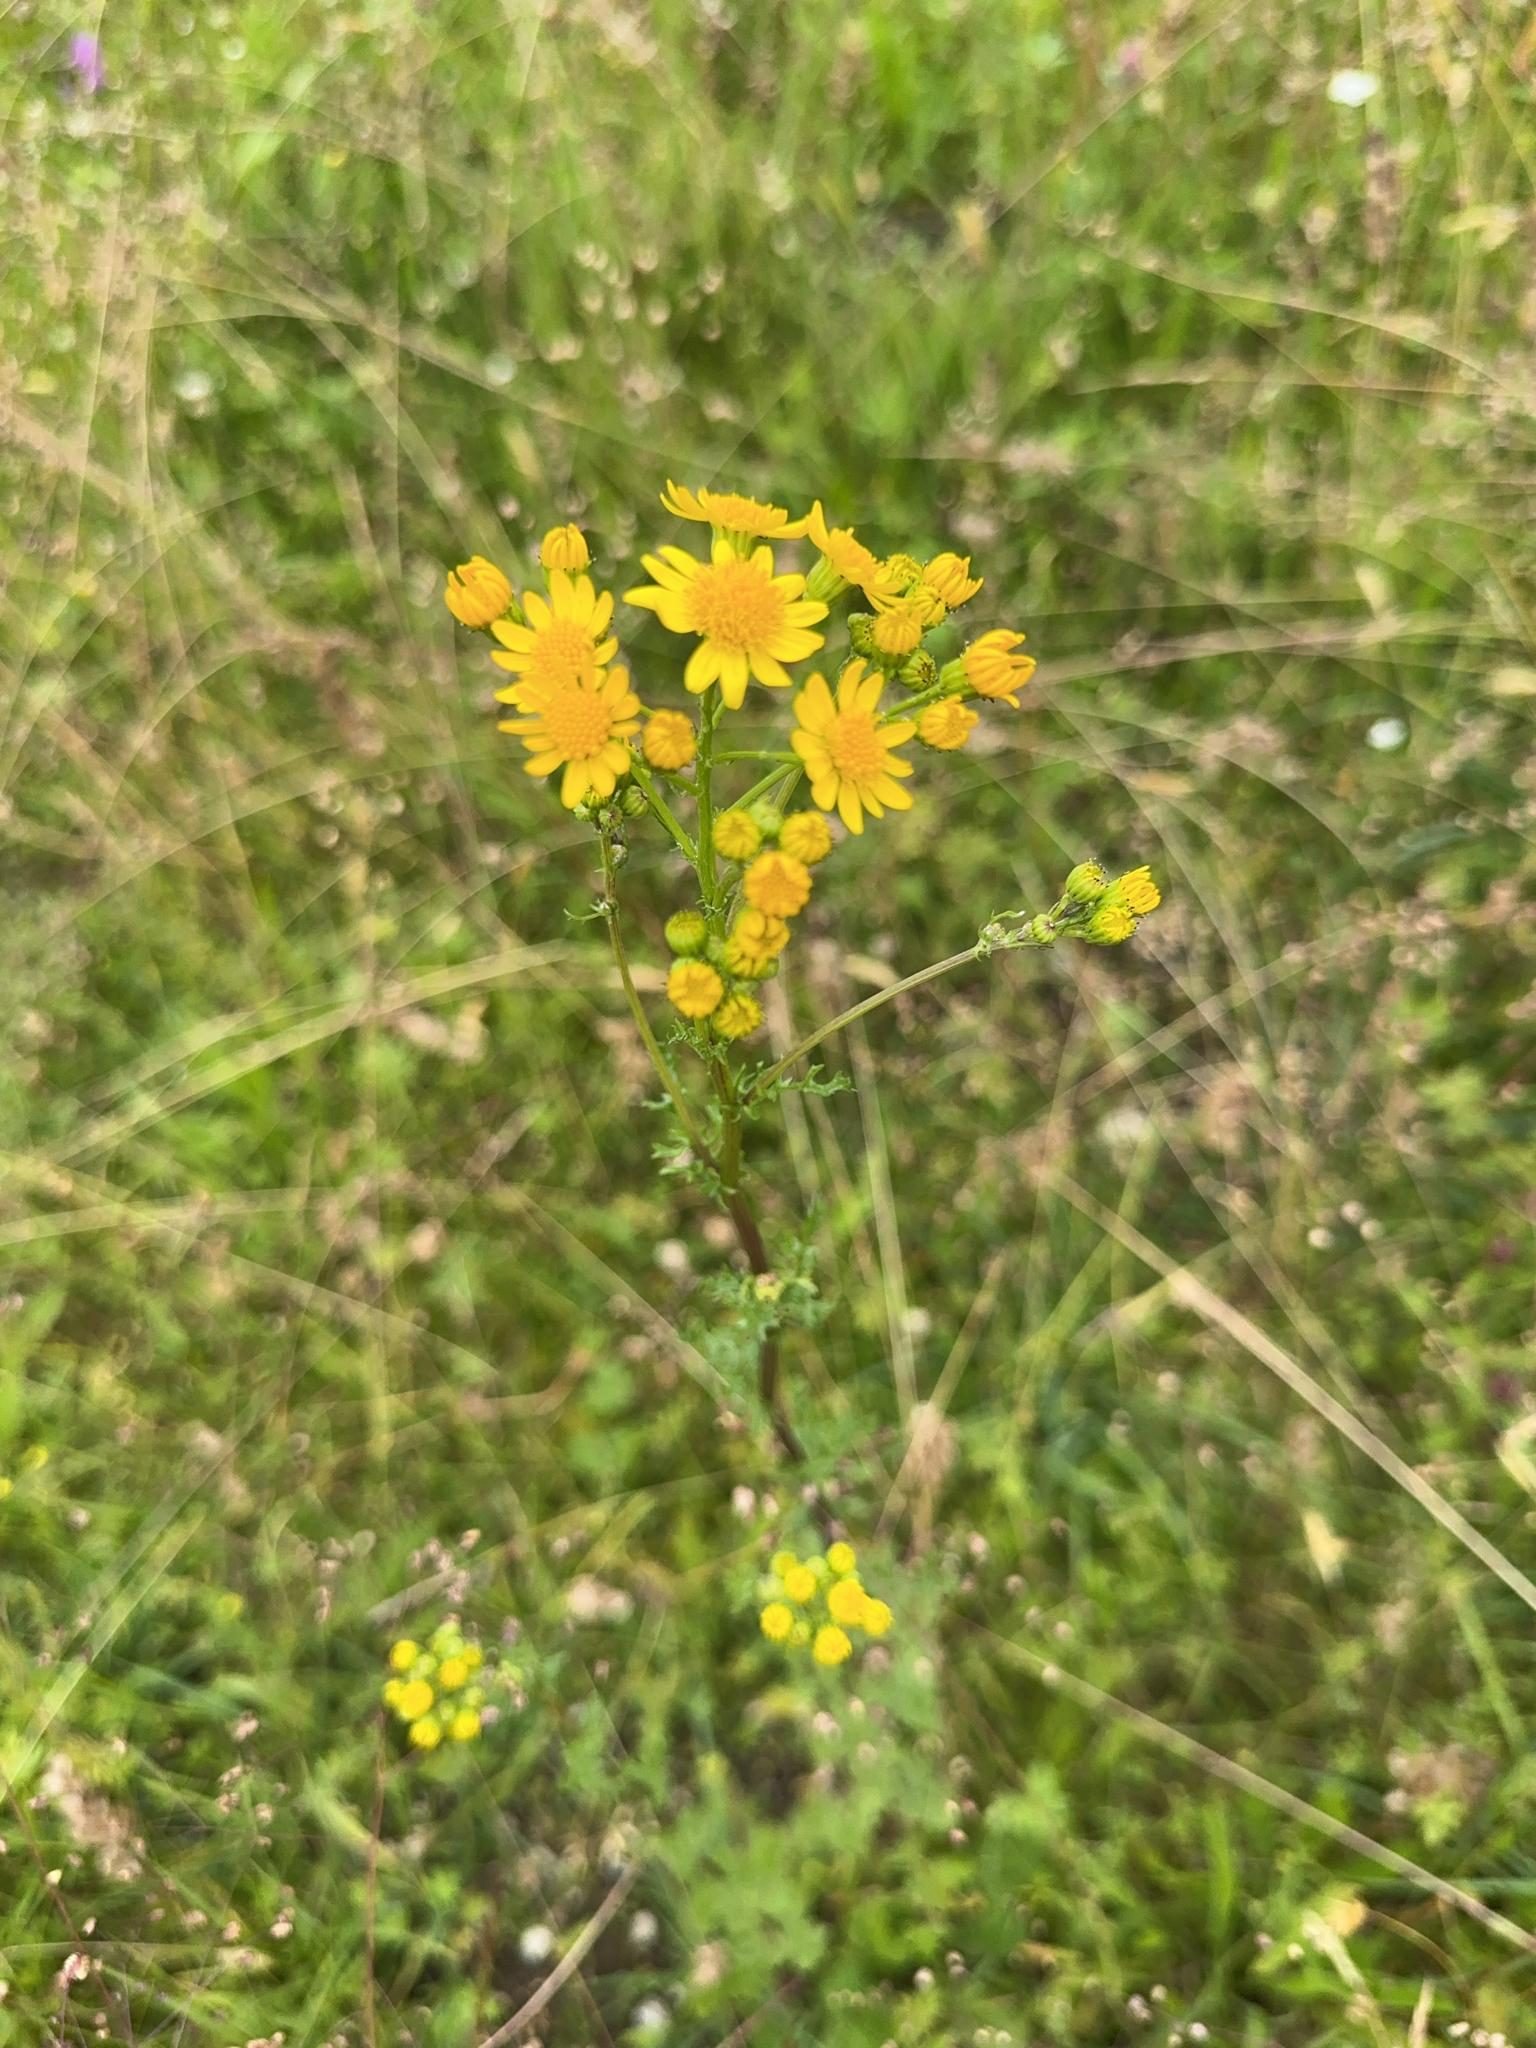Jacobaea vulgaris: (397, 463, 1060, 1913)
